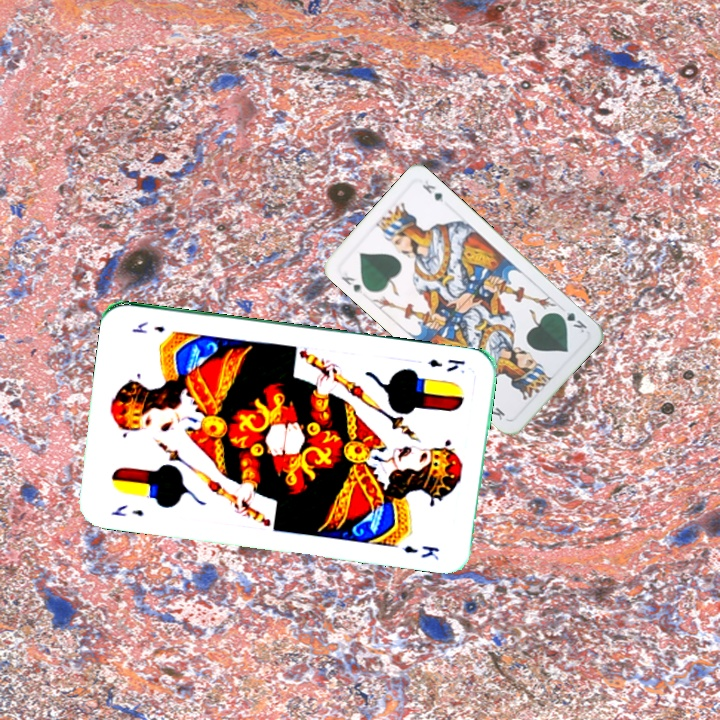EK: (424, 355, 467, 375), (107, 501, 146, 519)
GK: (553, 307, 590, 335), (337, 272, 365, 296)
